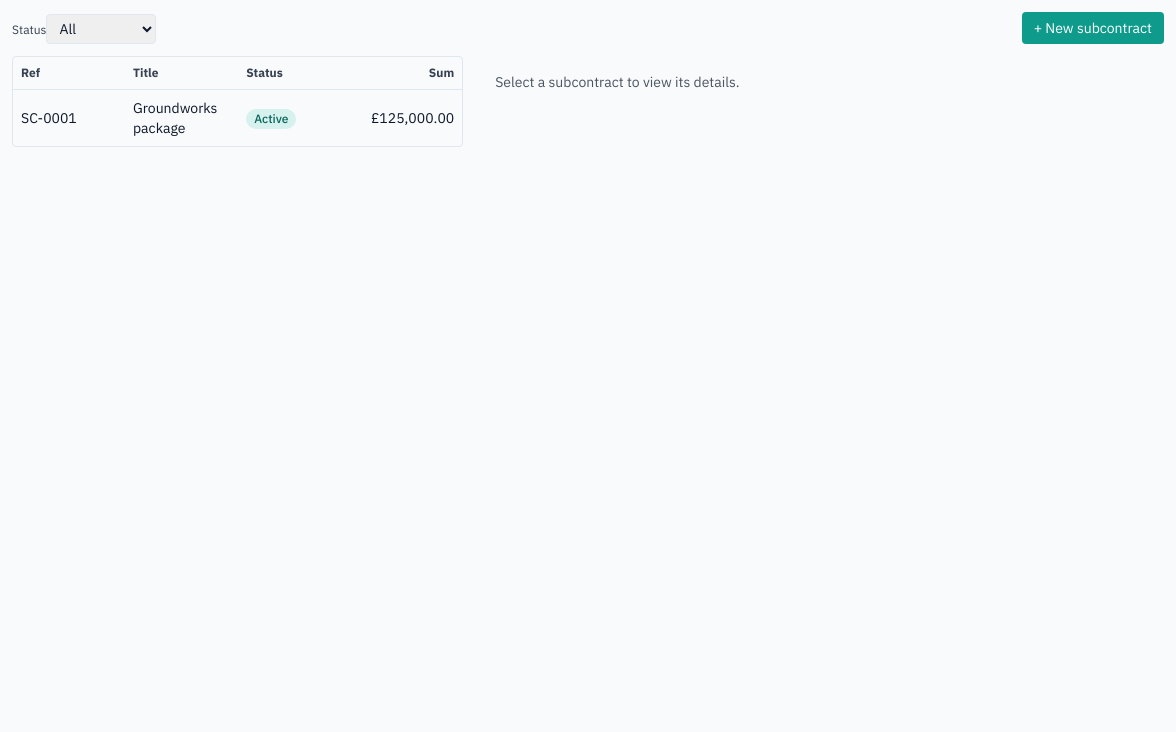
Test case: button visibility — perms × status › Active status → renders Complete + Terminate, no Activate
What coordinates should you click on to do the following:
click the row with test id "subcontracts-row-s-1"
I would click on:
 (49, 118)
Its box is [13,90,462,146].
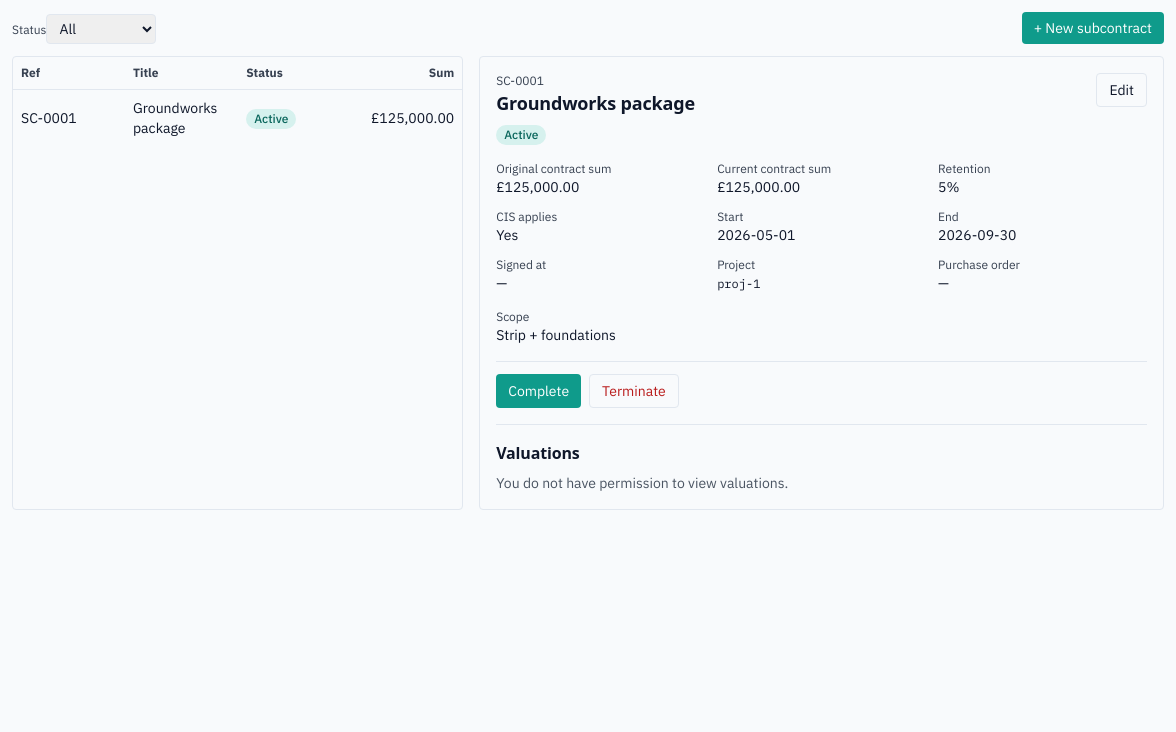
Now the button with test id "subcontract-actions-complete-btn" is shown, box [496,374,581,408]
Now the button with test id "subcontract-actions-terminate-btn" is shown, box [589,374,679,408]
